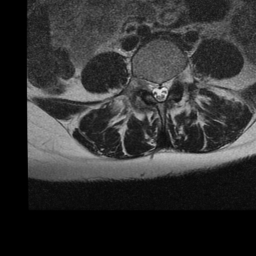CCS_normal: (156, 75, 163, 109)
LFS_normal: (169, 69, 178, 93)
LLS_normal: (163, 75, 169, 104)
RFS_normal: (142, 71, 150, 97)
RLS_normal: (150, 75, 156, 103)
